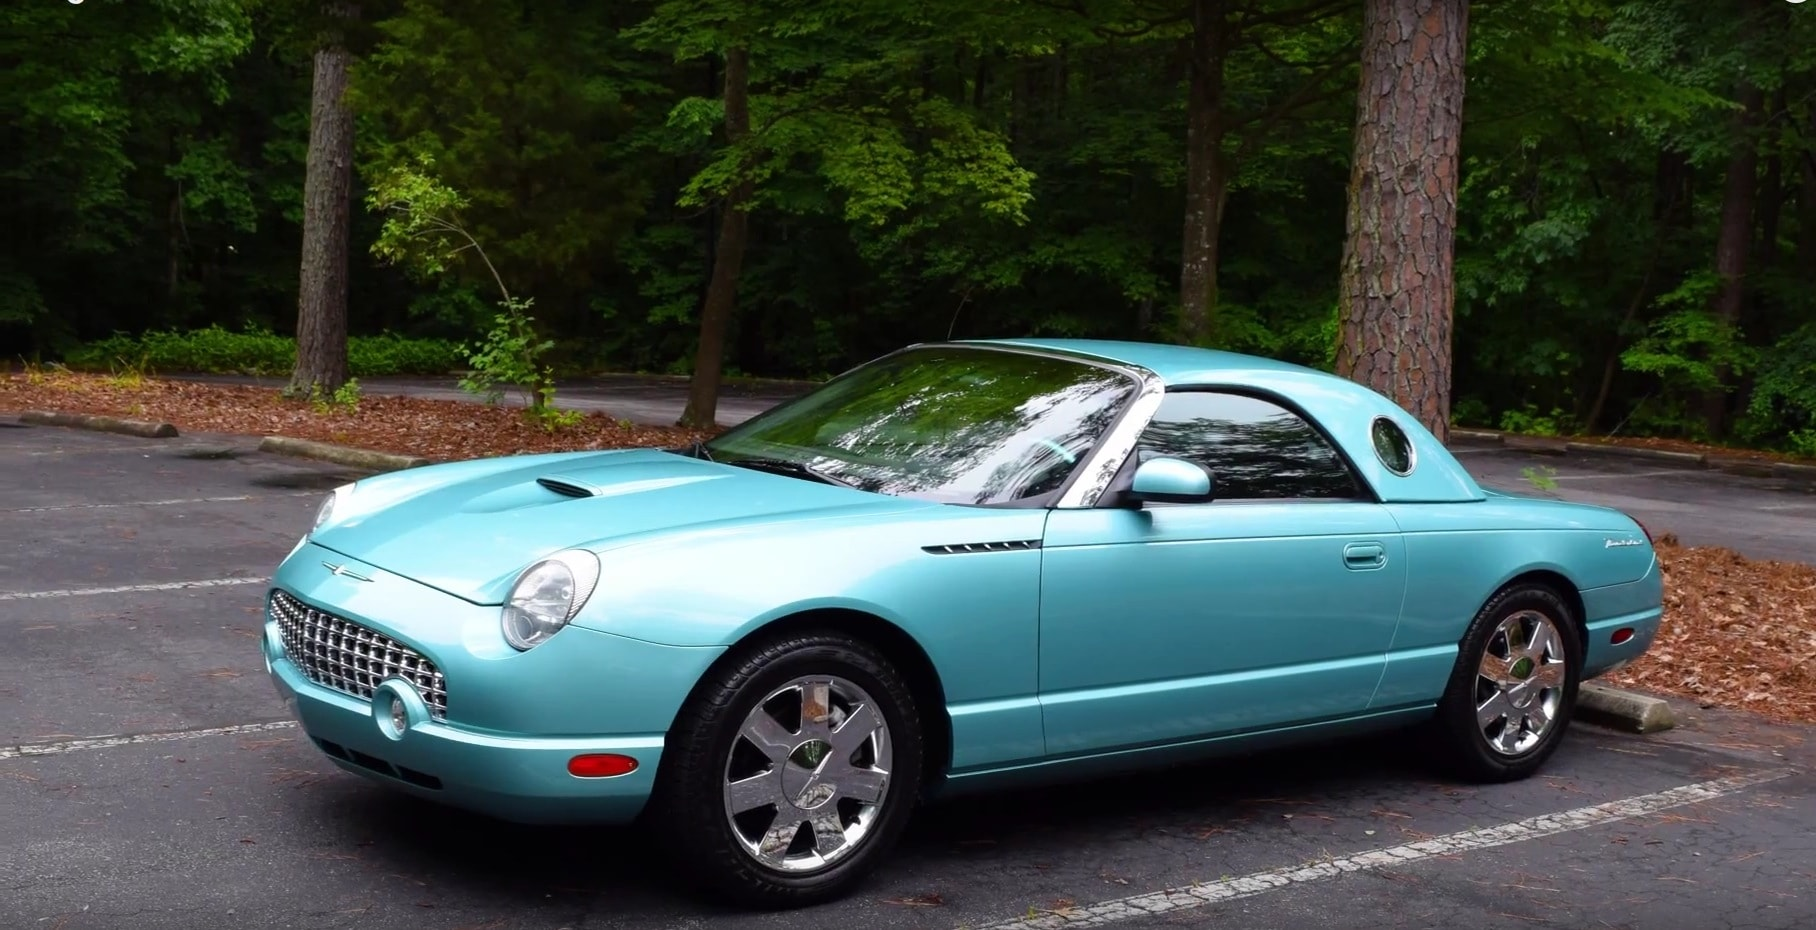car: (253, 316, 1670, 912)
